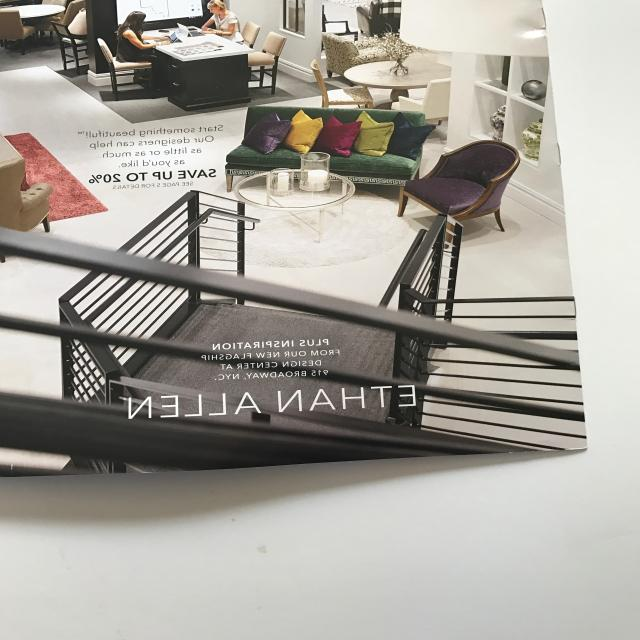paper: (0, 0, 603, 482)
